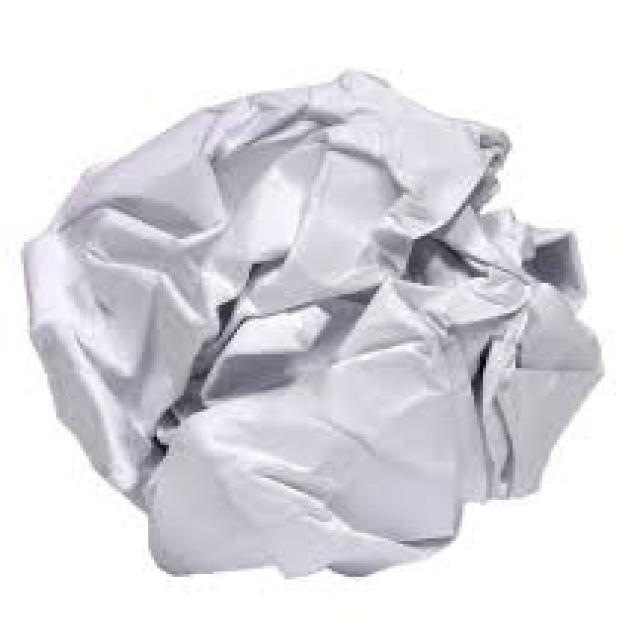paper: (18, 69, 598, 574)
